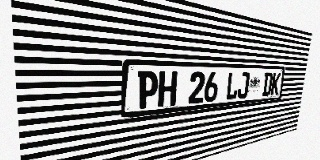2: (188, 71, 205, 104)
6: (203, 72, 219, 102)
D: (262, 72, 273, 96)
H: (157, 71, 177, 107)
J: (237, 72, 250, 99)
K: (270, 72, 281, 96)
L: (225, 72, 239, 100)
P: (137, 71, 159, 109)
